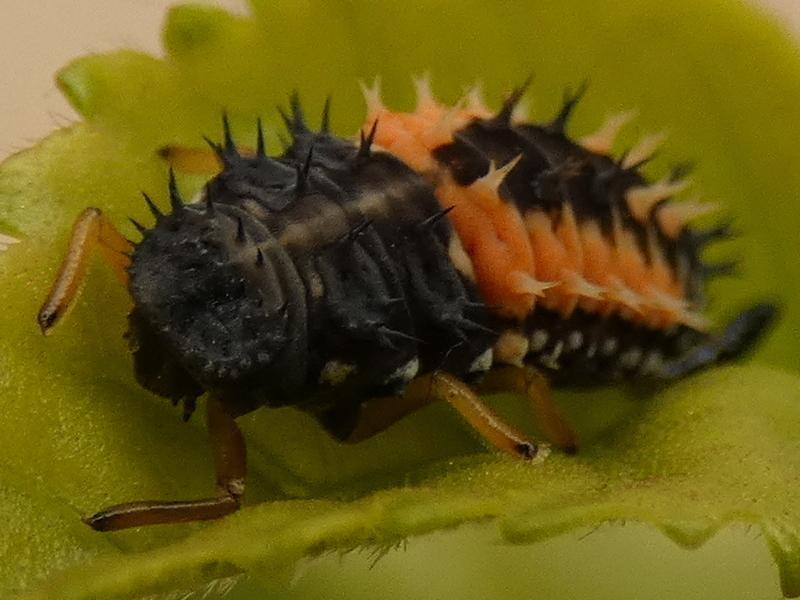ladybug: (34, 66, 784, 534)
